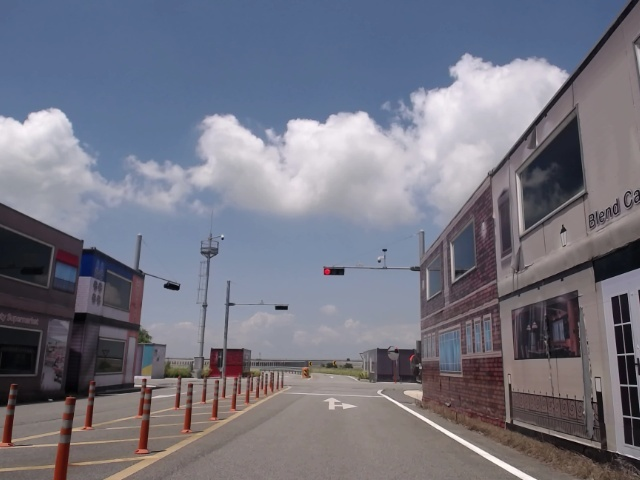red_3: (324, 266, 346, 276)
